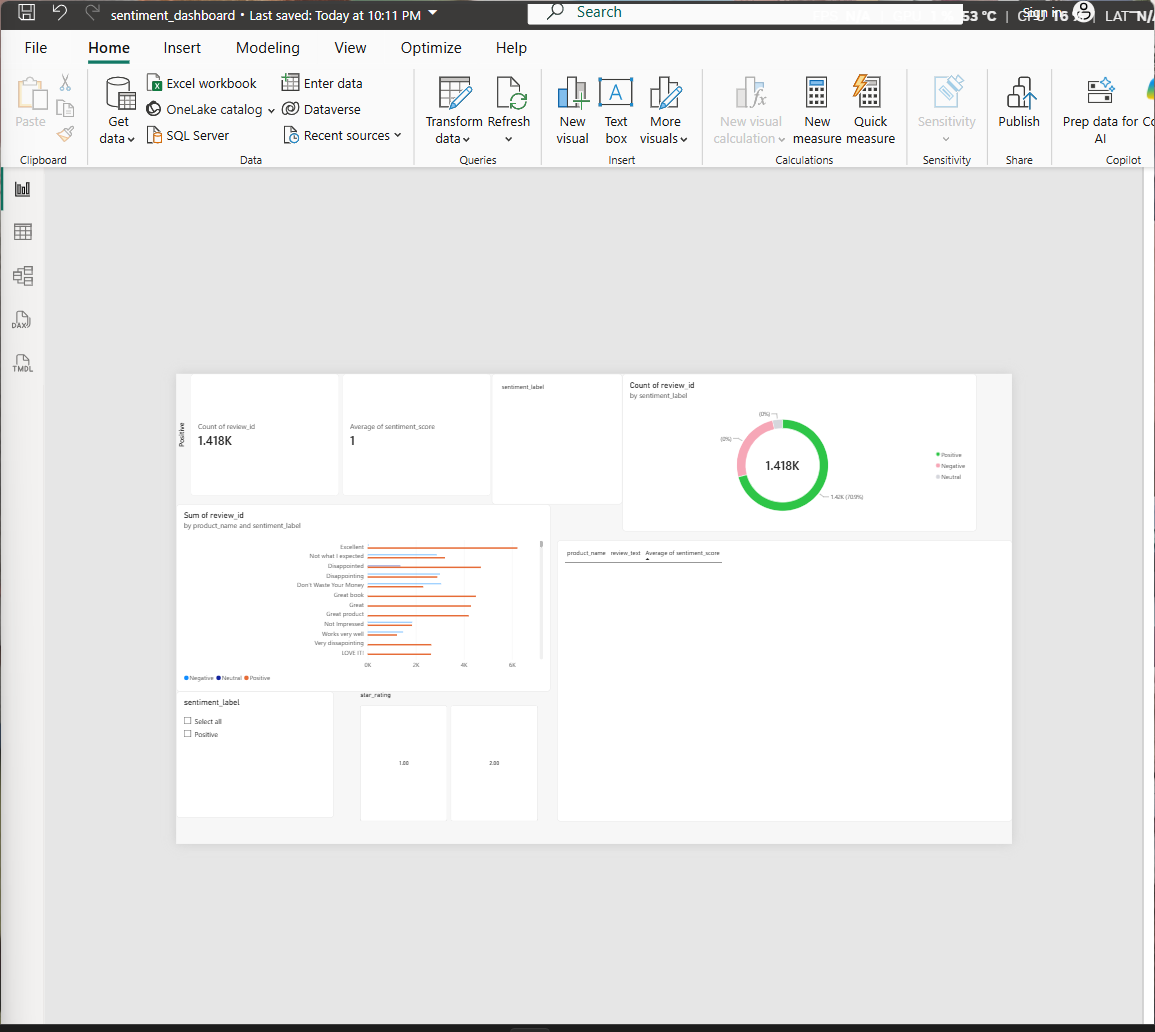

The page's visual inventory and layout, read from the dashboard file:
{"tool":"powerbi","page":{"name":"Page 1","canvas":[1920,1080],"ordinal":0},"visuals":[{"type":"cardVisual","fields":{"Data":["CountNonNull(public reviews.review_id)","Avg(public reviews.sentiment_score)"],"Rows":["public reviews.sentiment_label"]},"box":[0,0,724,280],"z":0},{"type":"tableEx","fields":{"Values":["public reviews.sentiment_label"]},"box":[724,0,300,300],"z":1000},{"type":"donutChart","fields":{"Category":["public reviews.sentiment_label"],"Y":["CountNonNull(public reviews.review_id)"]},"box":[1024,0,814,362],"z":2000},{"type":"clusteredBarChart","fields":{"Category":["public reviews.product_name"],"Series":["public reviews.sentiment_label"],"Y":["Sum(public reviews.review_id)"]},"box":[0,300,860,430],"z":3000},{"type":"tableEx","fields":{"Values":["public reviews.product_name","public reviews.review_text","Avg(public reviews.sentiment_score)"]},"box":[874,382,1046,646],"z":4000},{"type":"listSlicer","fields":{"Values":["public reviews.sentiment_label"]},"box":[0,730,362,290],"z":5000},{"type":"advancedSlicerVisual","fields":{"Values":["public reviews.star_rating"]},"box":[422,730,408,298],"z":6000}]}

Visuals, with their boxes in screenshot pixels (x1, y1, x2, y2):
cardVisual - CountNonNull(public reviews.review_id) x Avg(public reviews.sentiment_score): Rect(0, 412, 430, 578)
tableEx - public reviews.sentiment_label: Rect(430, 412, 607, 590)
donutChart - public reviews.sentiment_label x CountNonNull(public reviews.review_id): Rect(607, 412, 1090, 627)
clusteredBarChart - public reviews.product_name x public reviews.sentiment_label: Rect(0, 590, 510, 845)
tableEx - public reviews.product_name x public reviews.review_text: Rect(519, 639, 1139, 1022)
listSlicer - public reviews.sentiment_label: Rect(0, 845, 215, 1017)
advancedSlicerVisual - public reviews.star_rating: Rect(250, 845, 492, 1022)
